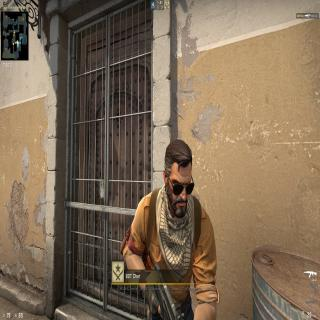T-Head: (162, 134, 195, 223)
